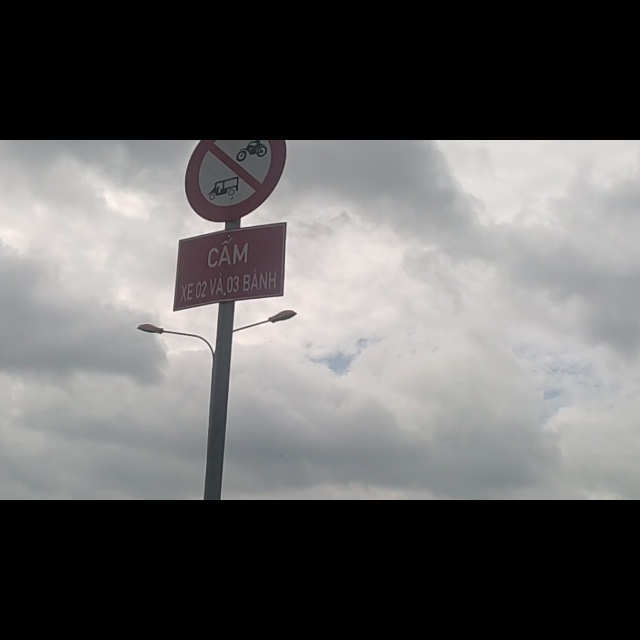bien_cam: (186, 4, 288, 149)
